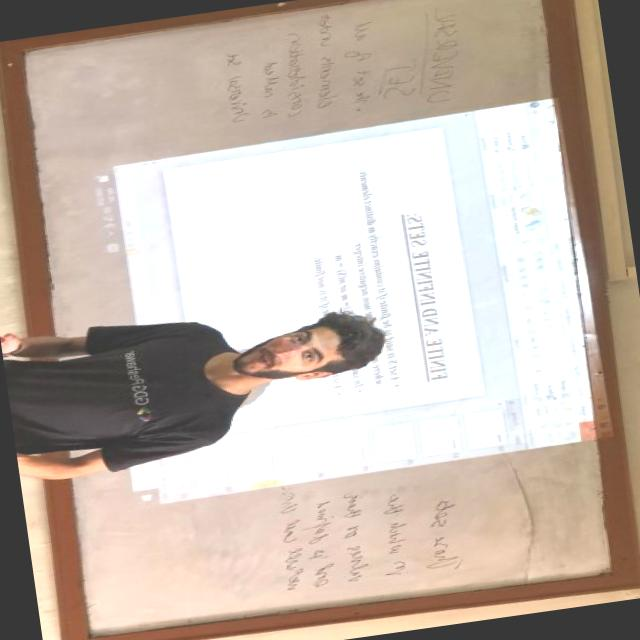Instructor: (0, 285, 414, 481)
Slide: (78, 98, 611, 512)
White-board: (13, 0, 626, 640)
